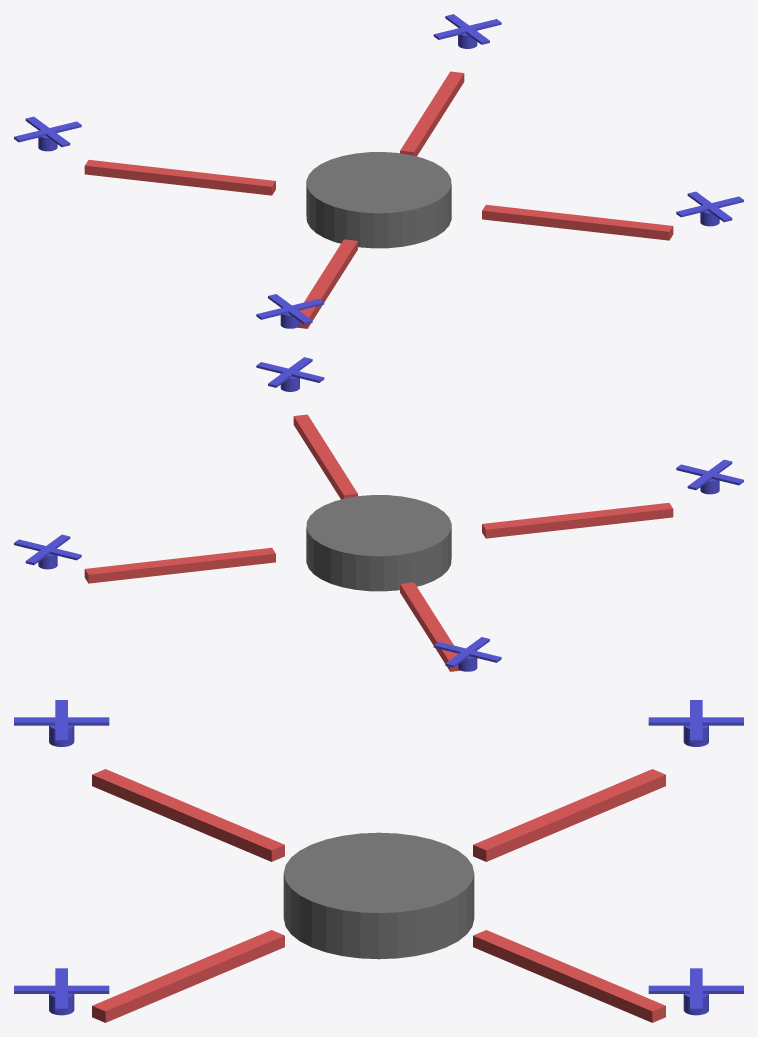
File: model_c8b0195c-85e6-48ba-b2b7-de5da96add3d.glb
3 renders of one model, top to bottom at view 1: azimuth 30°, elevation 25°; view 2: azimuth 150°, elevation 25°; view 3: azimuth 270°, elevation 25°, orthographic. The views are drawn at different scales.
Visible parts, largest first — view 1: DroneBody, Arm_4, Arm_2, Arm_1, Arm_3; view 2: DroneBody, Arm_1, Arm_3, Arm_4, Arm_2; view 3: DroneBody, Arm_1, Arm_2, Arm_3, Arm_4, PropellerBlade2_4, PropellerBlade2_1, PropellerBlade2_3, PropellerBlade2_2, PropellerBlade1_3, PropellerBlade1_2, PropellerBlade1_4.
Boxes of the visible parts, x1=… form: DroneBody: x1=306, y1=152, x2=451, y2=248; Arm_4: x1=482, y1=204, x2=673, y2=240; Arm_2: x1=84, y1=160, x2=275, y2=195; Arm_1: x1=400, y1=71, x2=464, y2=156; Arm_3: x1=297, y1=239, x2=357, y2=328; DroneBody: x1=306, y1=495, x2=451, y2=591; Arm_1: x1=84, y1=547, x2=275, y2=583; Arm_3: x1=482, y1=503, x2=673, y2=538; Arm_4: x1=293, y1=414, x2=357, y2=499; Arm_2: x1=400, y1=582, x2=460, y2=671; DroneBody: x1=283, y1=832, x2=474, y2=959; Arm_1: x1=473, y1=930, x2=665, y2=1022; Arm_2: x1=473, y1=769, x2=665, y2=861; Arm_3: x1=92, y1=769, x2=284, y2=861; Arm_4: x1=92, y1=930, x2=284, y2=1022; PropellerBlade2_4: x1=14, y1=985, x2=109, y2=993; PropellerBlade2_1: x1=648, y1=985, x2=743, y2=993; PropellerBlade2_3: x1=14, y1=717, x2=109, y2=725; PropellerBlade2_2: x1=648, y1=717, x2=743, y2=725; PropellerBlade1_3: x1=55, y1=700, x2=67, y2=742; PropellerBlade1_2: x1=690, y1=700, x2=702, y2=742; PropellerBlade1_4: x1=55, y1=968, x2=67, y2=1011.
Bounding box in the file's own units: 1.15 × 0.1125 × 1.15.
